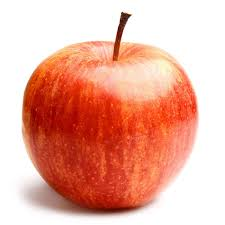apple: (24, 40, 199, 212)
